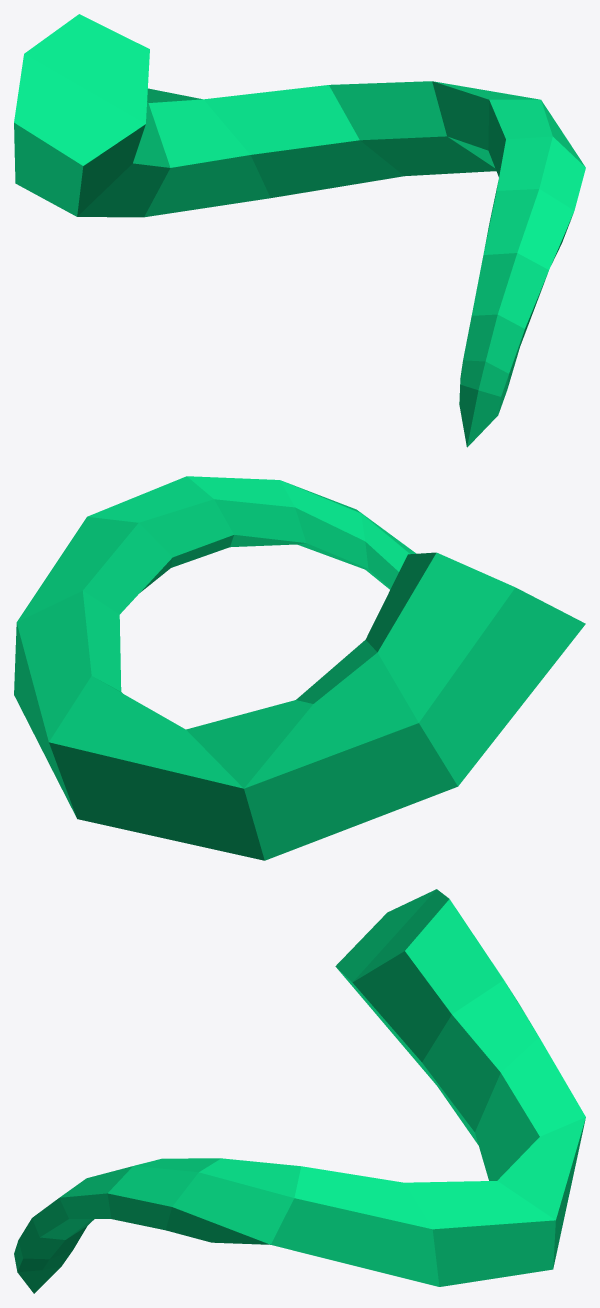
3 views of the same model, one above another, from view 1: azimuth 30°, elevation 25°; view 2: azimuth 150°, elevation 25°; view 3: azimuth 270°, elevation 25° (orthographic). The views are drawn at different scales.
Parts seen in each view (by area): view 1: Root_05; view 2: Root_05; view 3: Root_05.
Part boxes in pixels (x1,y1,x2,y2): Root_05: (14,14,585,447); Root_05: (14,476,585,860); Root_05: (14,889,585,1293).
Bounding box in the file's own units: 202 × 126 × 209.
